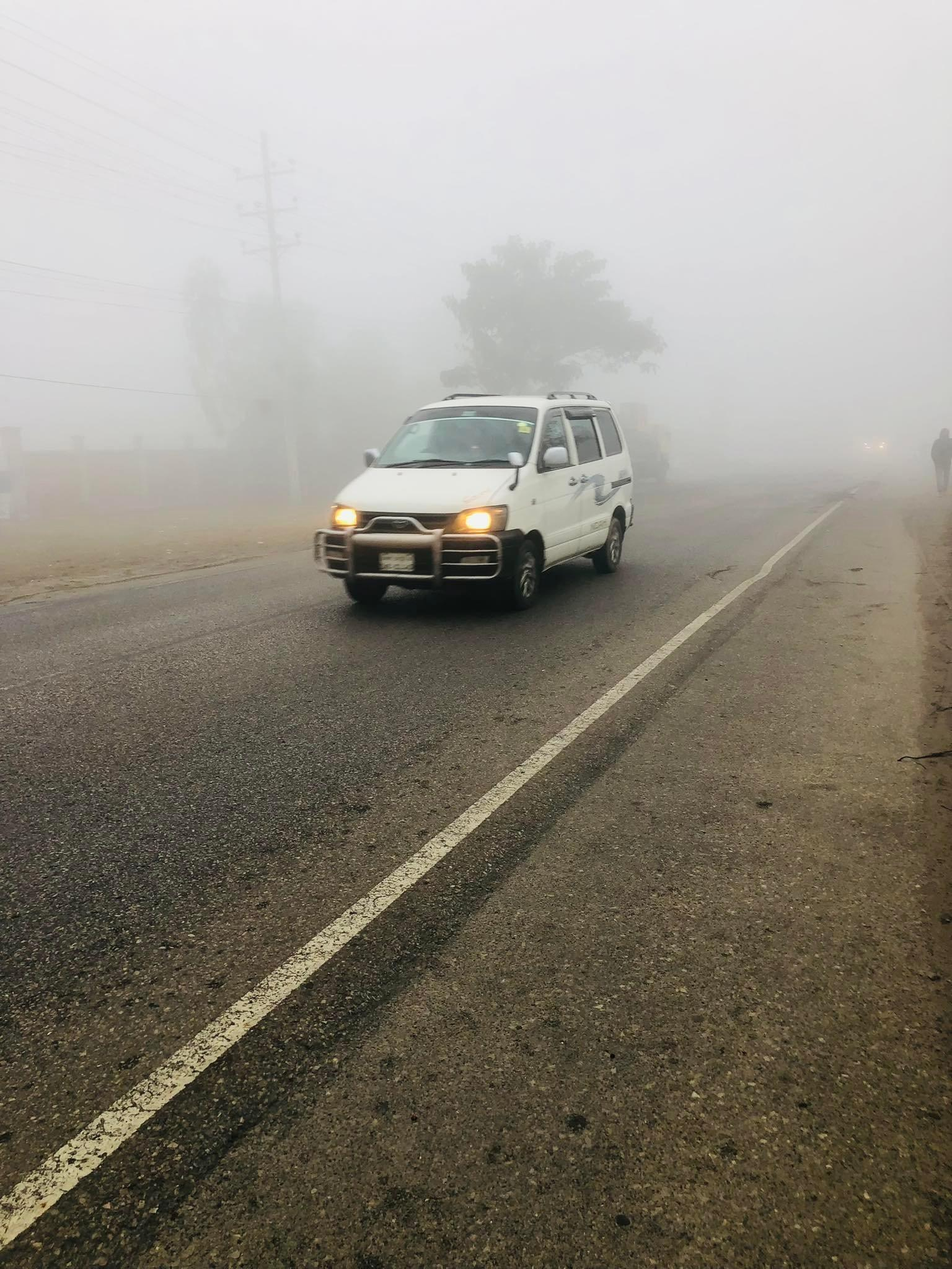Car: (307, 376, 676, 623)
